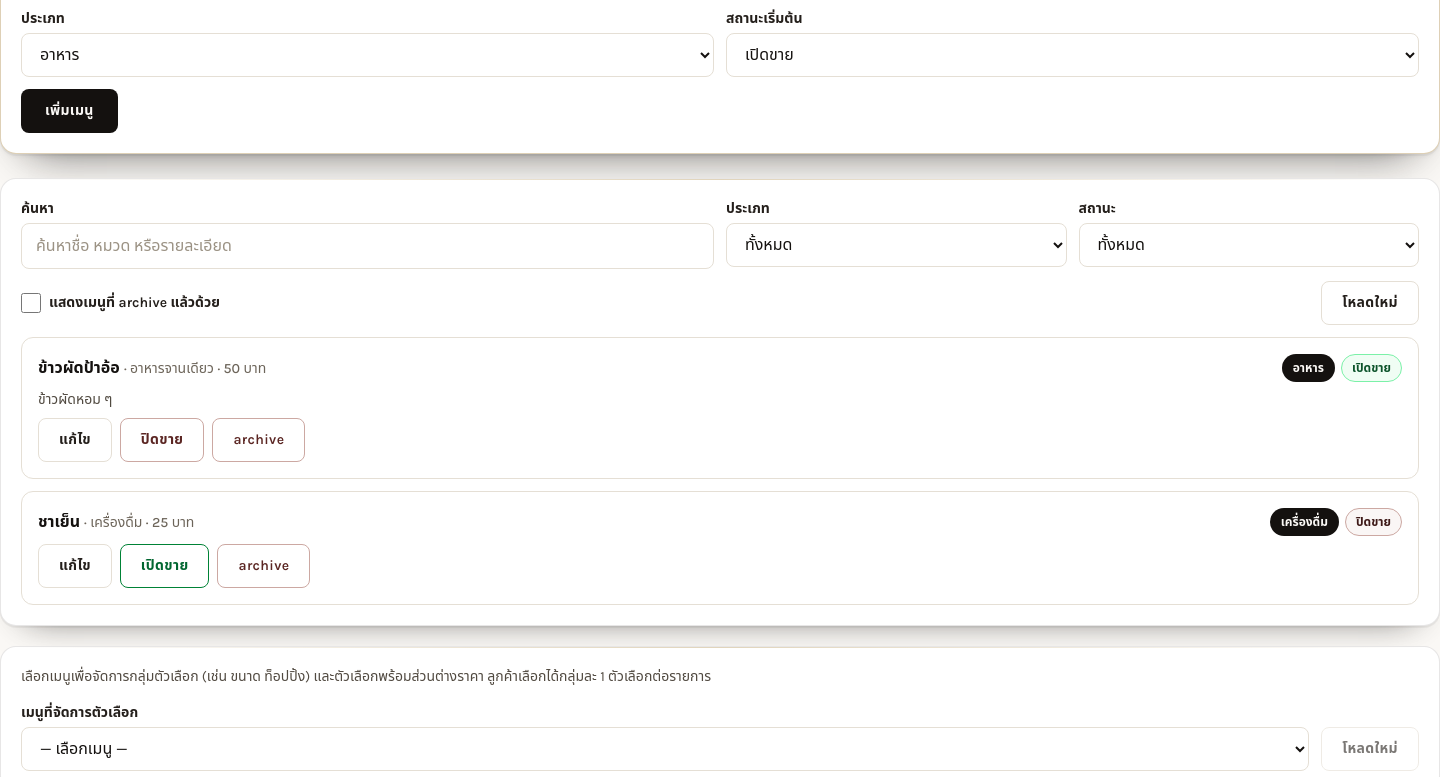
Scenario: หน้าจัดการเมนู (Owner/Admin, Ticket 04) › archive ต้องยืนยันก่อน และสำเร็จแสดงข้อความ
(page scrolled)
What coordinates should you click on to do the following:
click the button "archive" below "ข้าวผัดป้าอ้อ"
I would click on:
 (259, 440)
Its box is x1=212 y1=418 x2=305 y2=462.
(page scrolled)
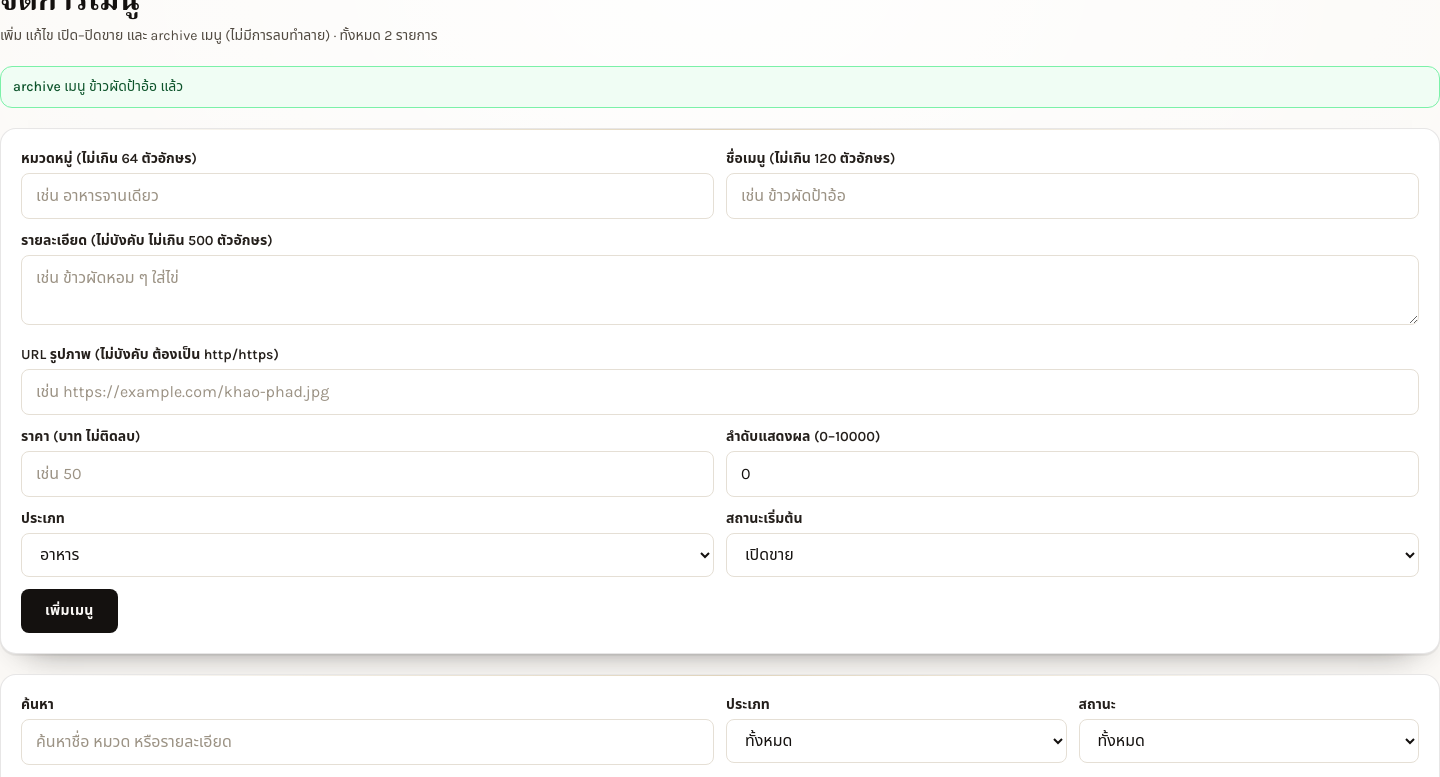
Check: the message reads "archive เมนู ข้าวผัดป้าอ้อ แล้ว", box x1=13 y1=78 x2=183 y2=94
